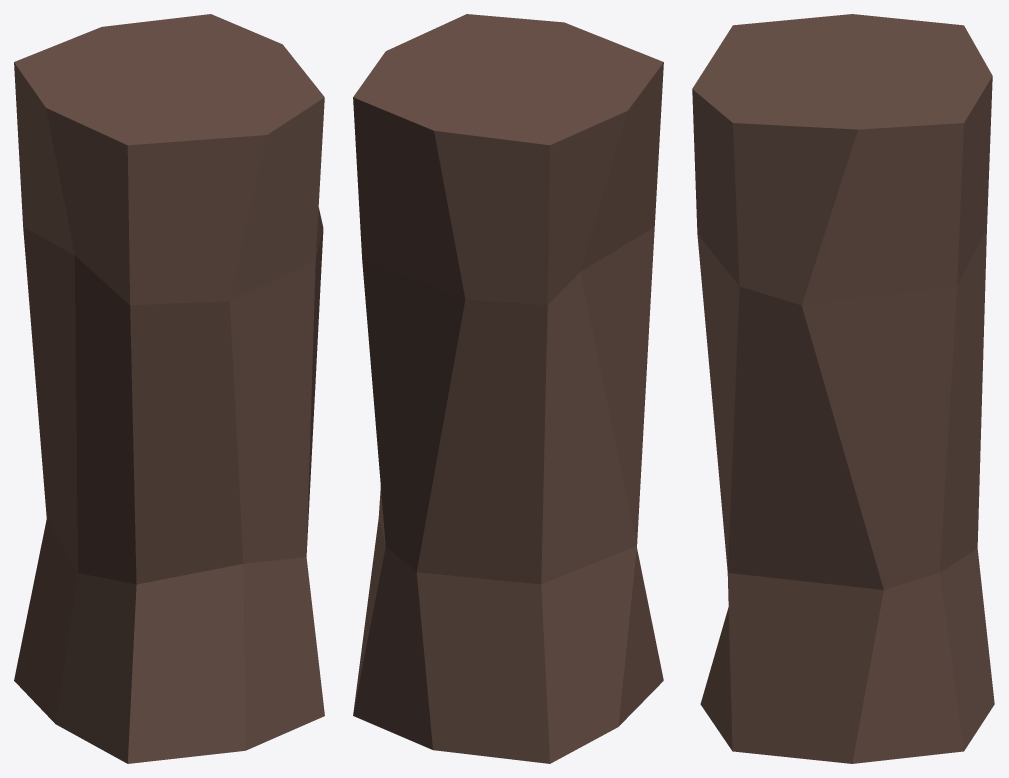
The model's file is Cave_Pillar_Middle_Low.fbx.
3 views of the same model, side by side, from view 1: azimuth 30°, elevation 25°; view 2: azimuth 150°, elevation 25°; view 3: azimuth 270°, elevation 25° (orthographic).
Parts seen in each view (by area): view 1: Cave_Pillar_Middle_Low; view 2: Cave_Pillar_Middle_Low; view 3: Cave_Pillar_Middle_Low.
Boxes of the visible parts, bbox=[...] form: Cave_Pillar_Middle_Low: bbox=[14, 14, 324, 763]; Cave_Pillar_Middle_Low: bbox=[353, 14, 663, 763]; Cave_Pillar_Middle_Low: bbox=[692, 14, 994, 763].
Size of the model in its own units: 1.28 by 1.31 by 3.01.
